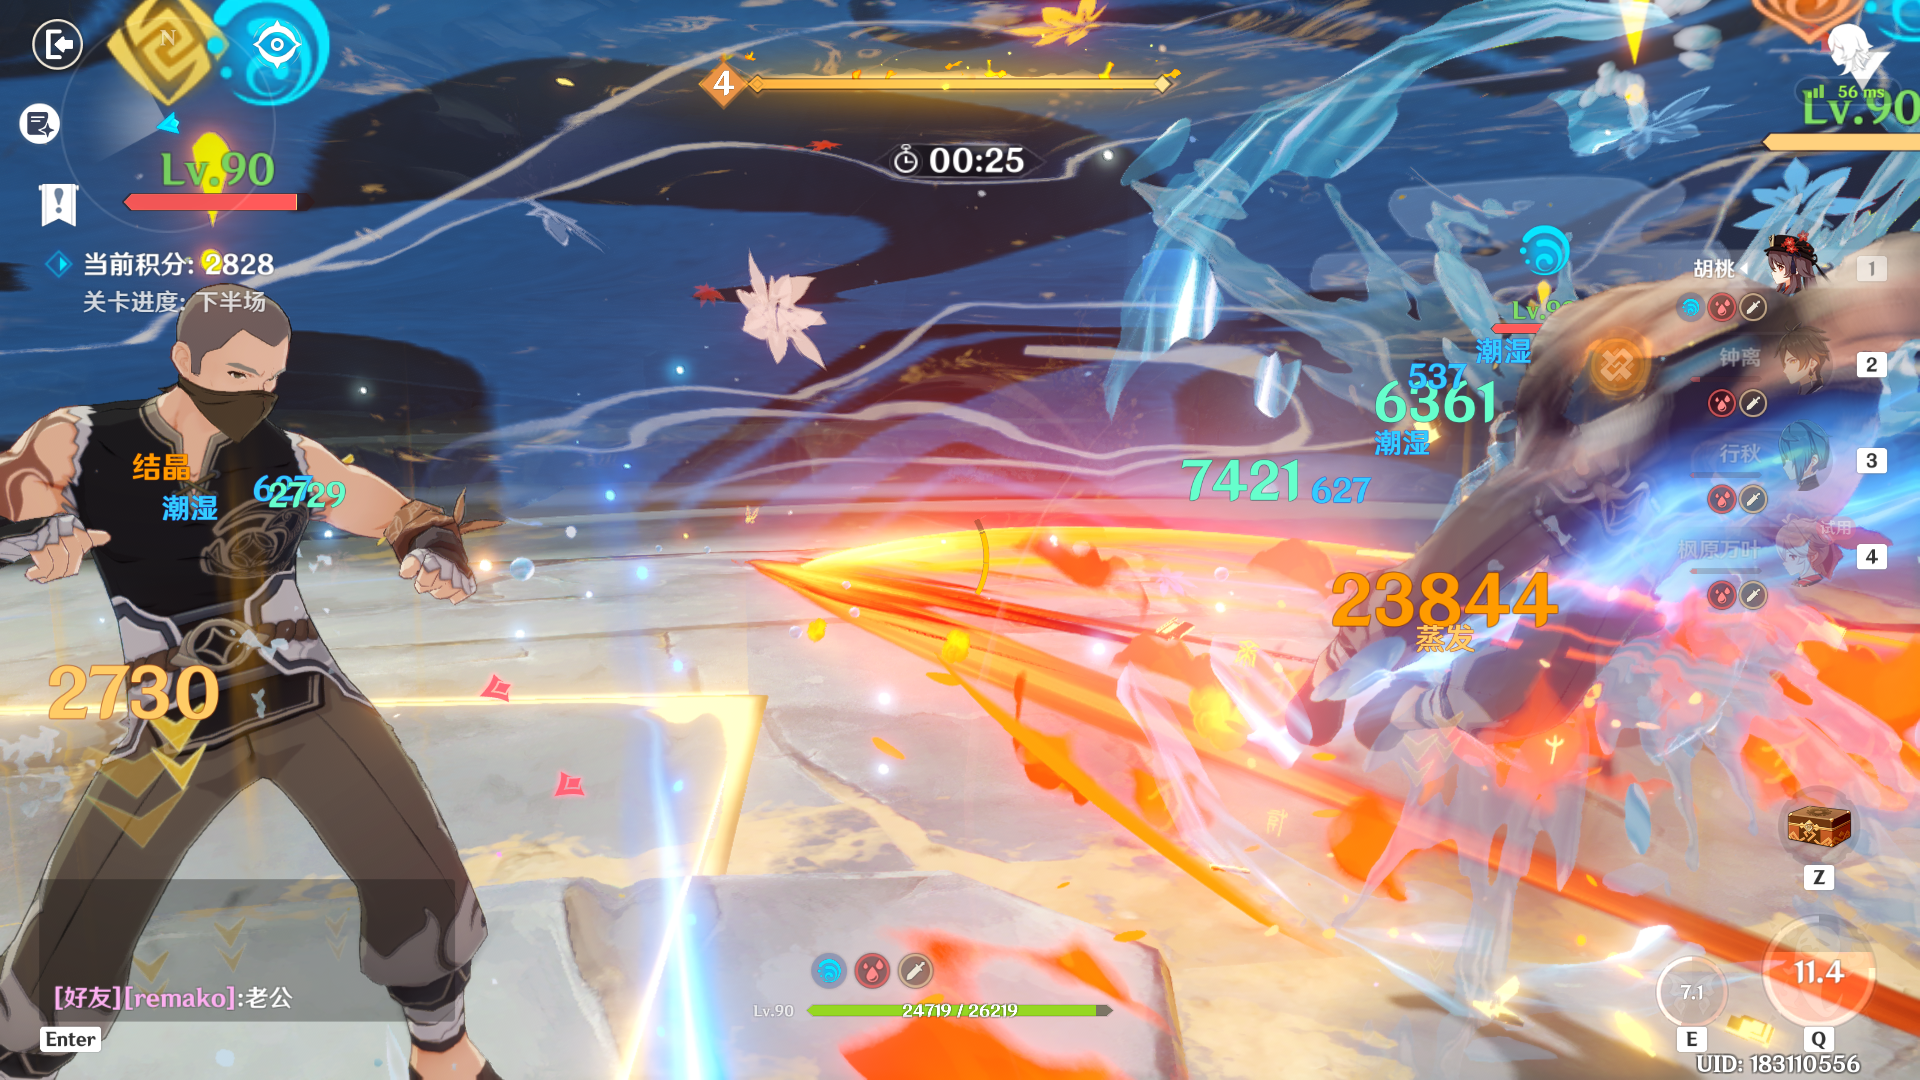robber: (1, 284, 505, 1080)
